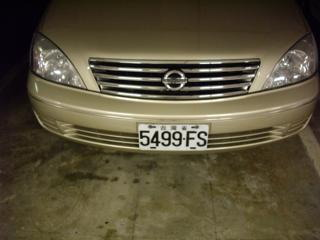plate: (135, 121, 210, 152)
